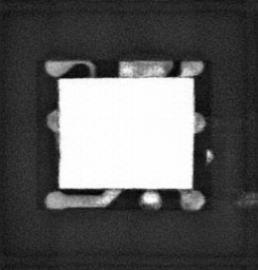DIE_INK: (237, 190, 258, 208), (205, 148, 214, 164)
